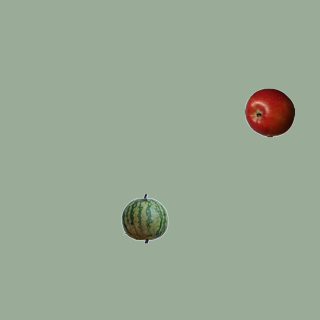Apple Braeburn: (244, 87, 294, 137)
Watermelon: (119, 193, 169, 243)
